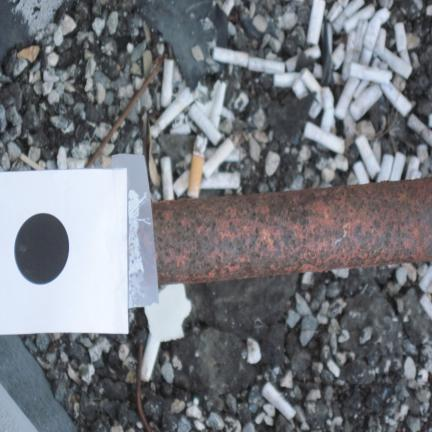karat: (151, 178, 431, 284)
